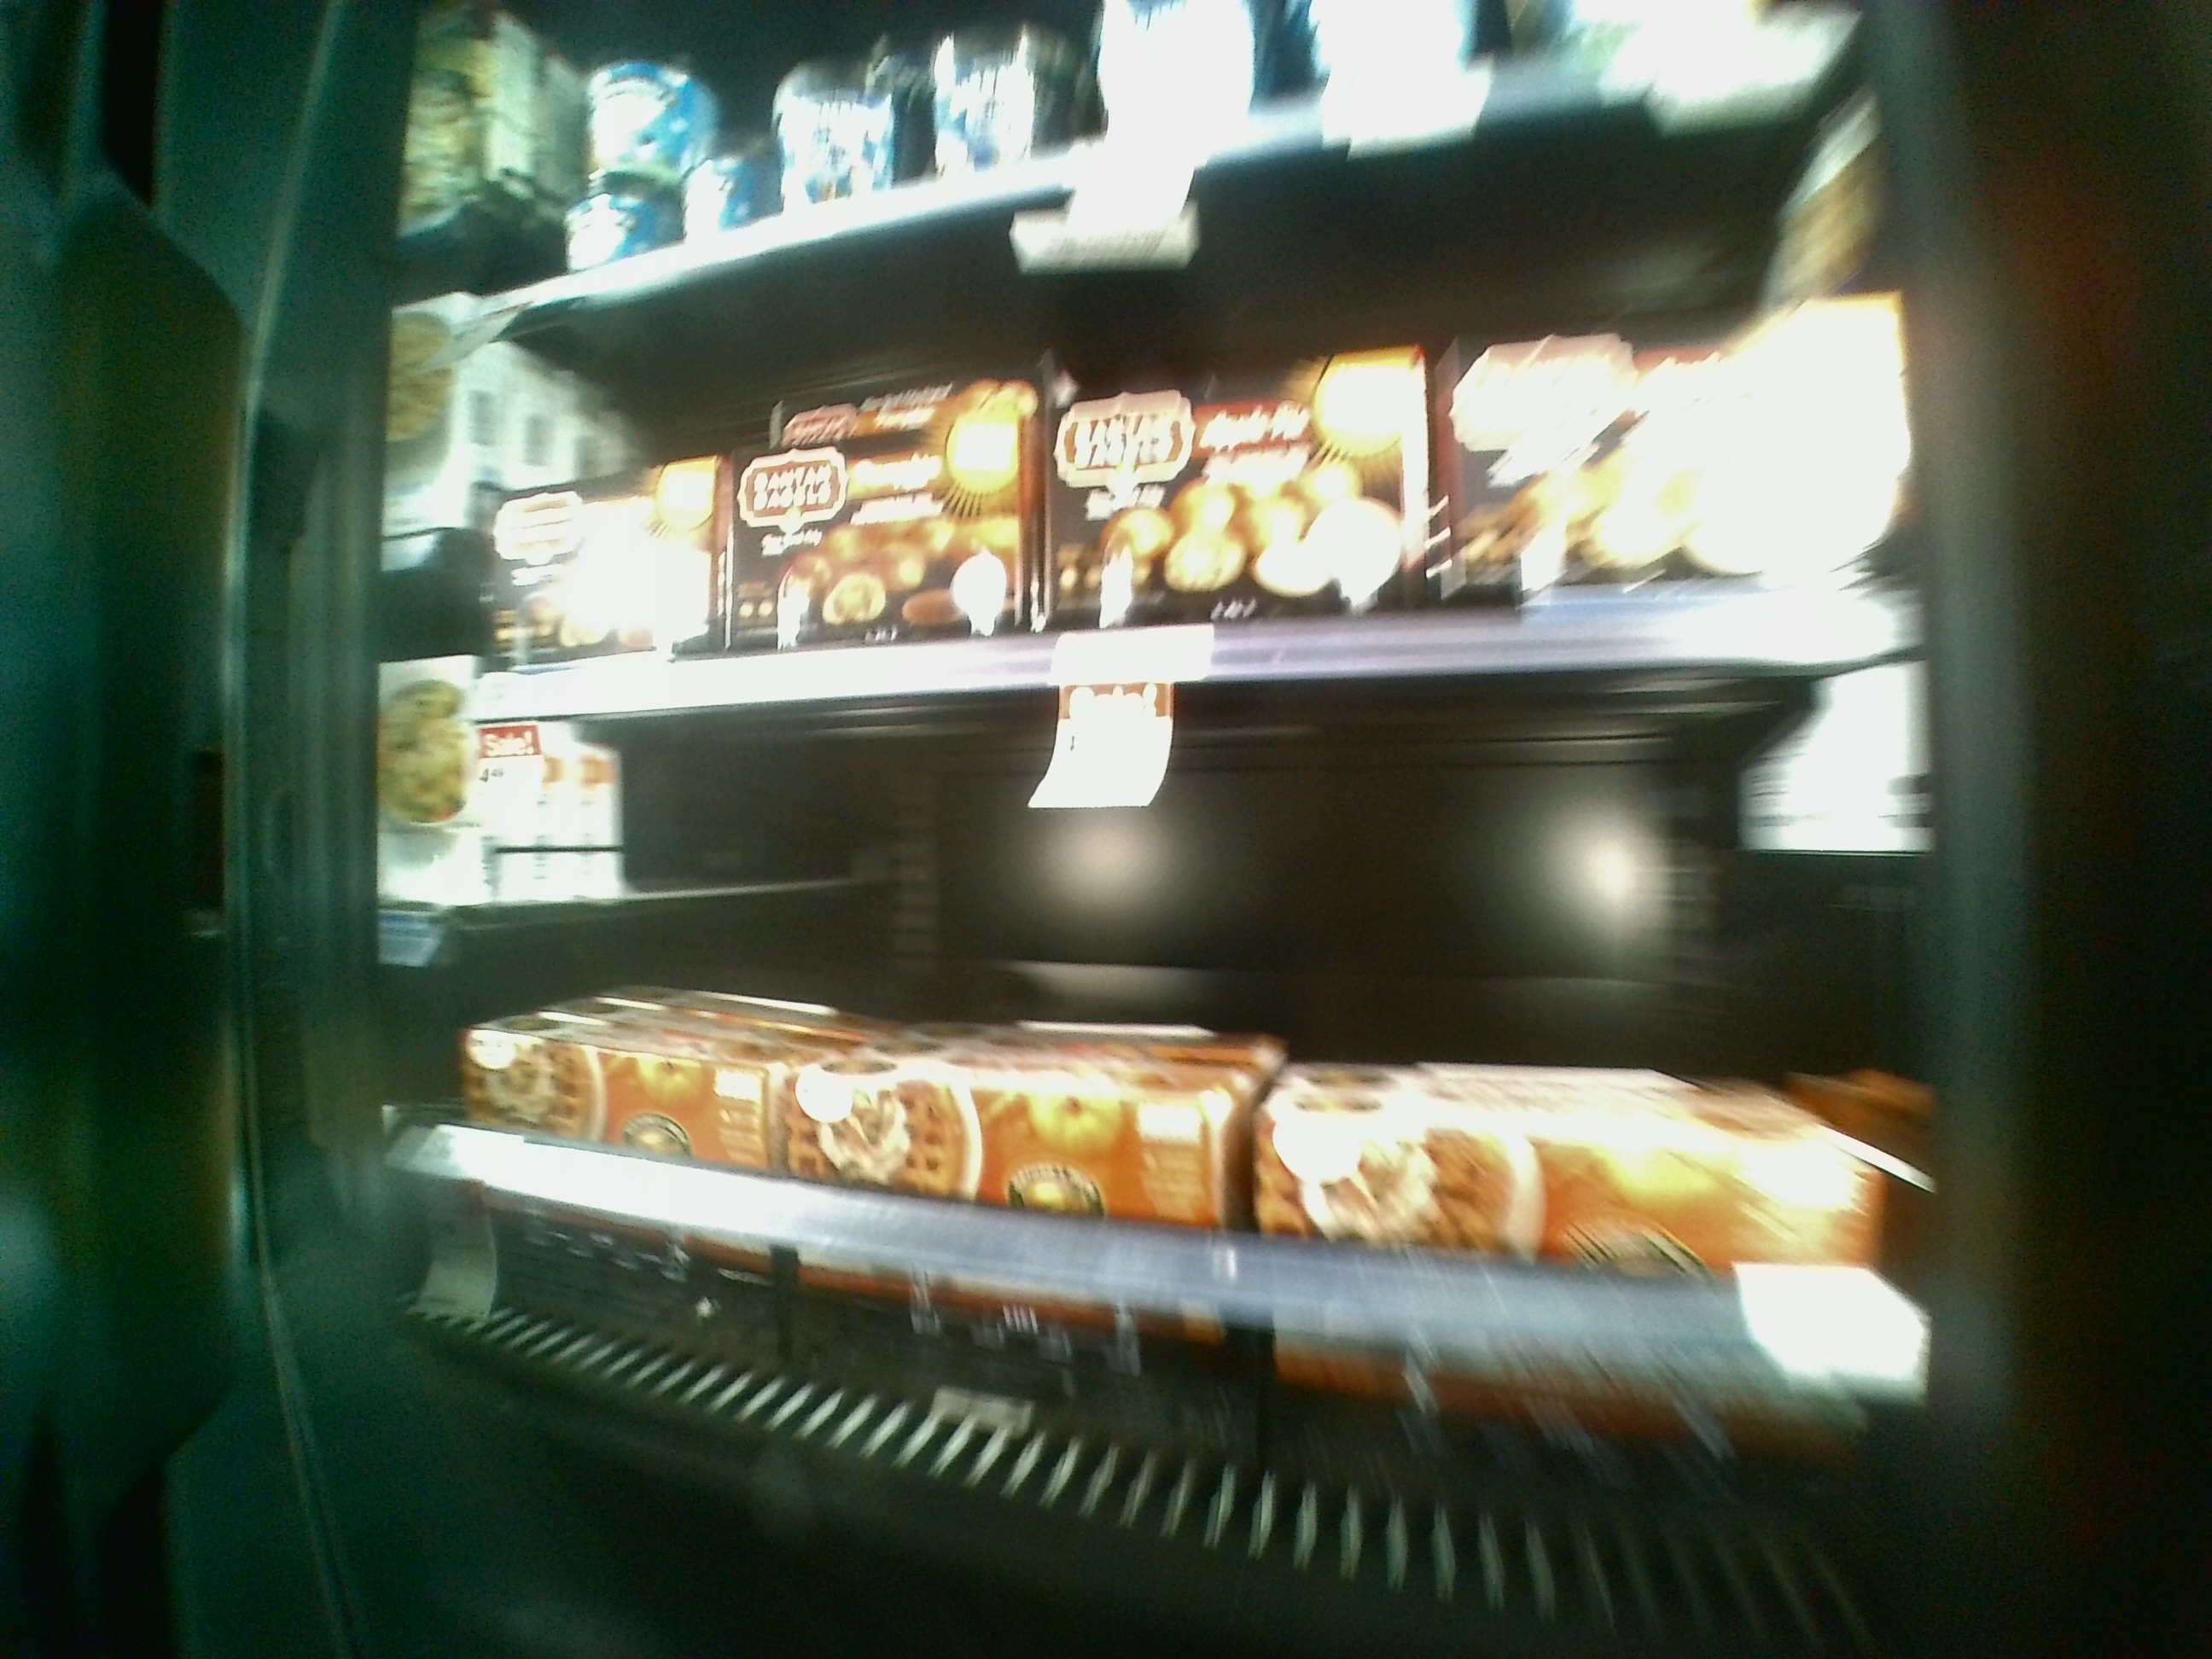shelf: (465, 688, 1963, 1617), (493, 289, 1935, 683)
